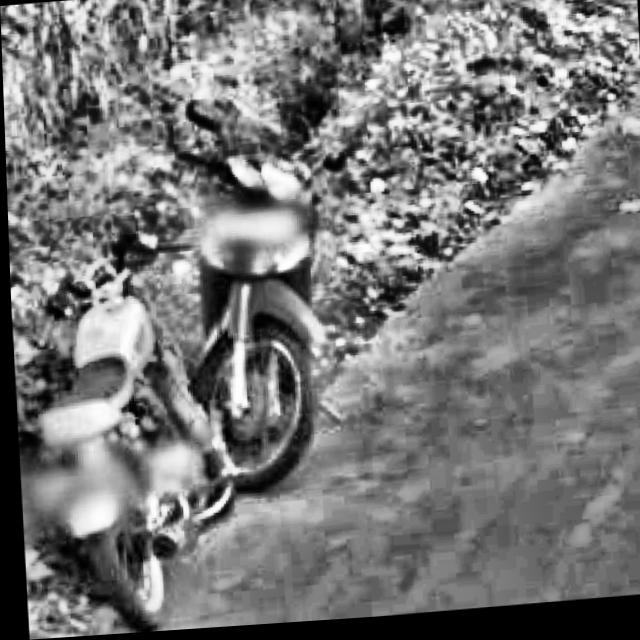motorcycle: (152, 85, 362, 499), (19, 214, 217, 639)
